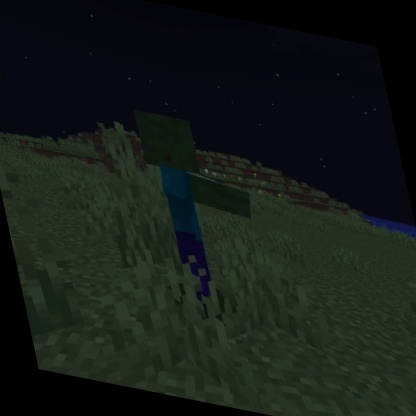zombie: (126, 102, 283, 334)
